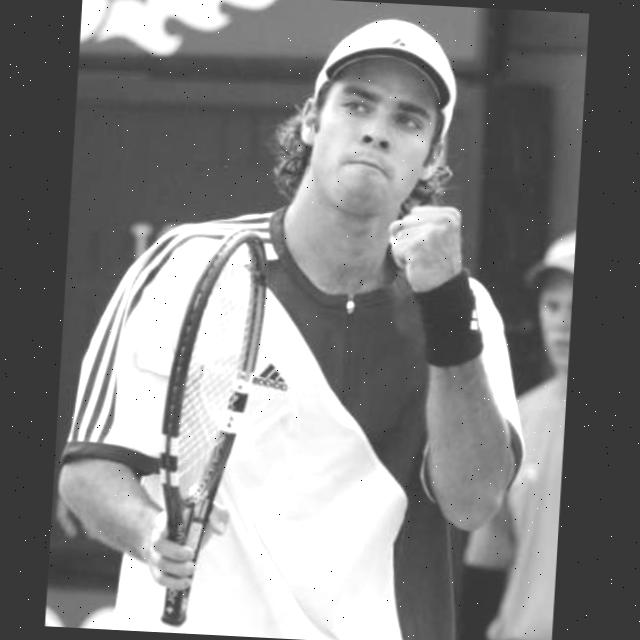face: (306, 50, 444, 221)
